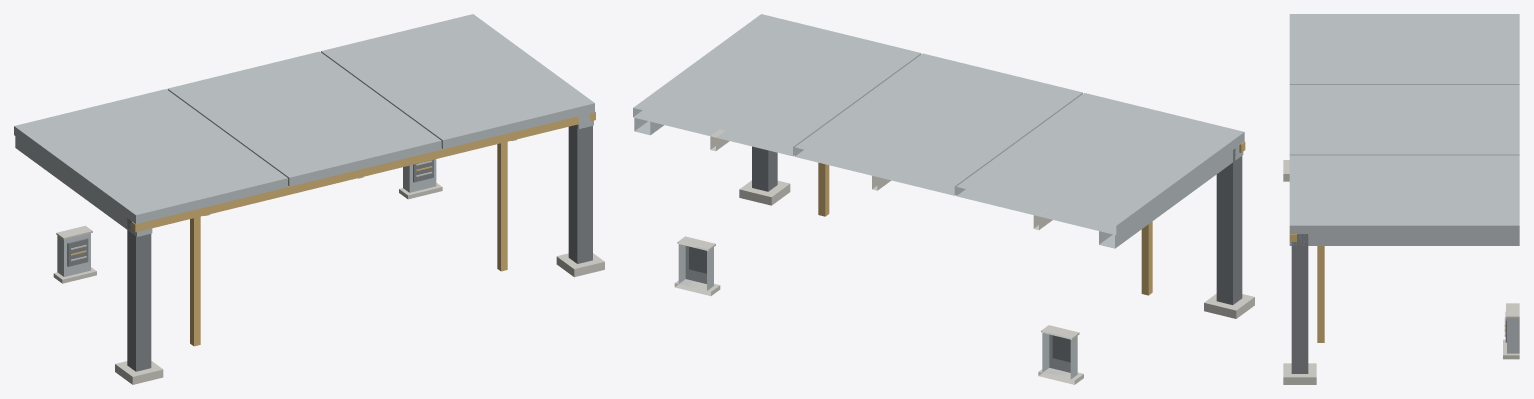
Rendered from lunar-5-5.glb.
The picture shows the model from 3 angles, left to right: view 1: azimuth 30°, elevation 25°; view 2: azimuth 150°, elevation 25°; view 3: azimuth 270°, elevation 25°; orthographic projection. The views are drawn at different scales.
Parts seen in each view (by area): view 1: lunar-5-5; view 2: lunar-5-5; view 3: lunar-5-5.
Part boxes in pixels (x1,y1,x2,y2): lunar-5-5: (14, 14, 604, 384); lunar-5-5: (633, 14, 1254, 384); lunar-5-5: (1283, 14, 1519, 384).
Bounding box in the file's own units: 49.2 × 16.5 × 22.6.
